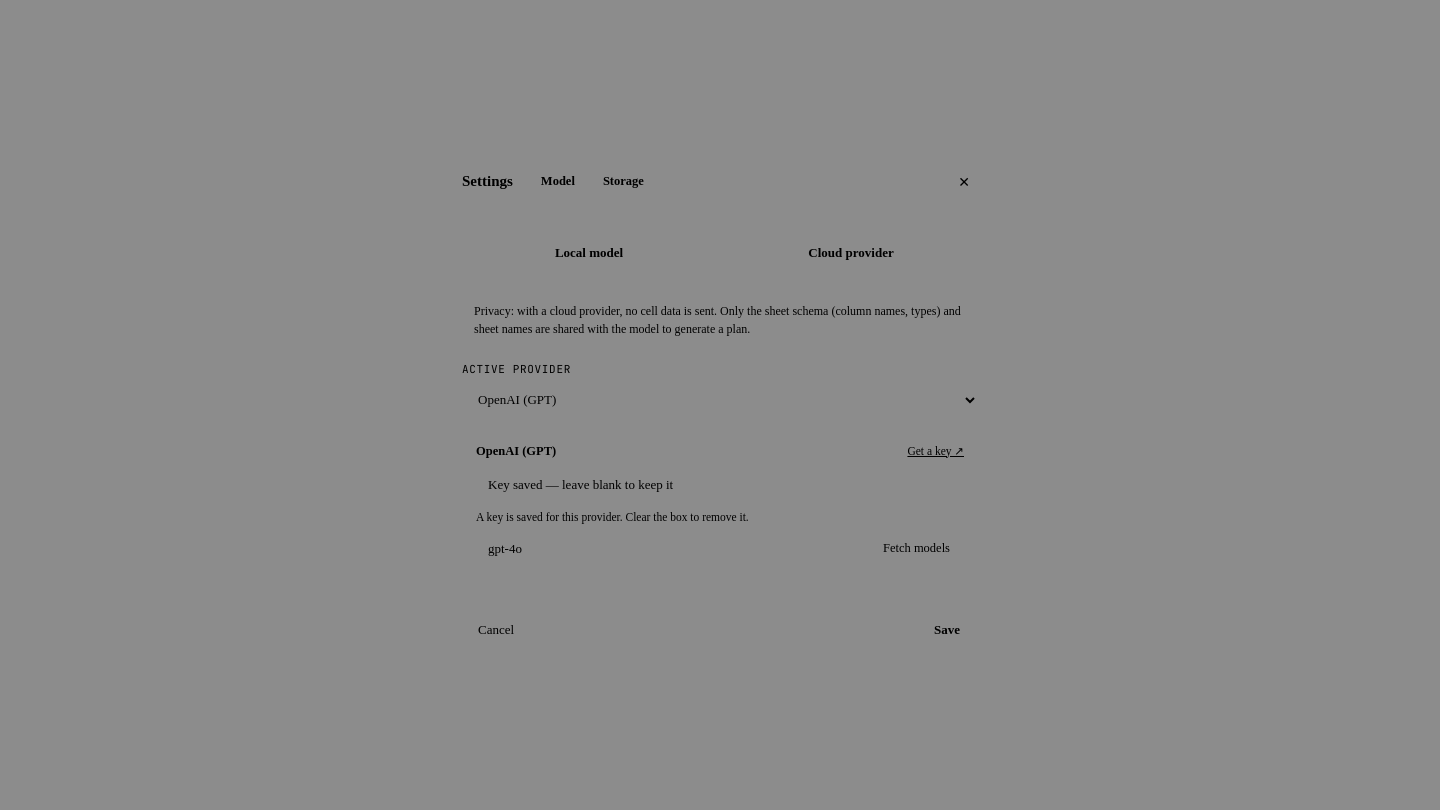
Test: SettingsPanel keys › says so when a provider answers with no chat models at all
The image size is (1440, 810).
Click the button "Fetch models": (916, 548) [869, 530, 964, 566]
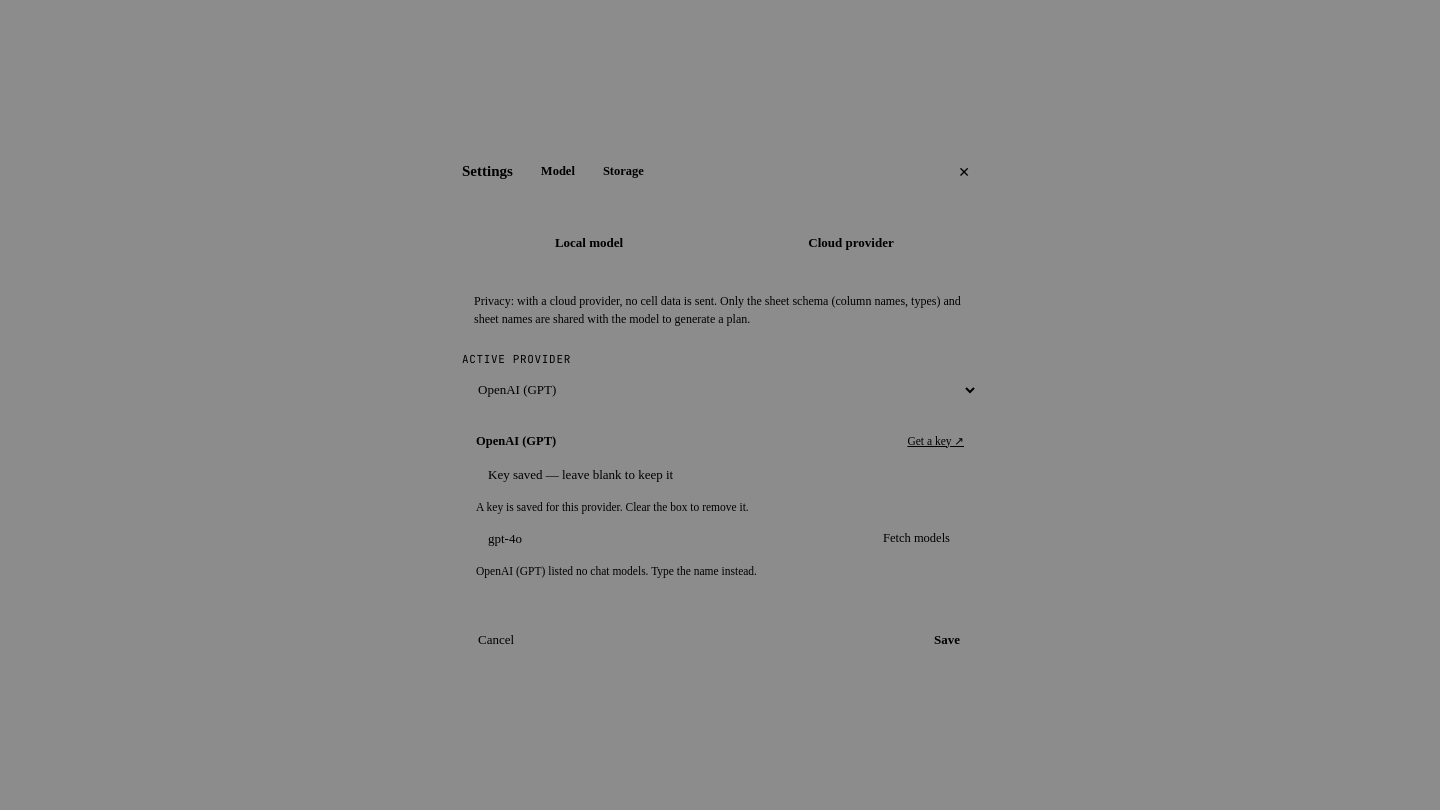
expect the text "OpenAI (GPT) listed no chat models. Type the name instead." is shown: met, box [476, 564, 757, 576]
